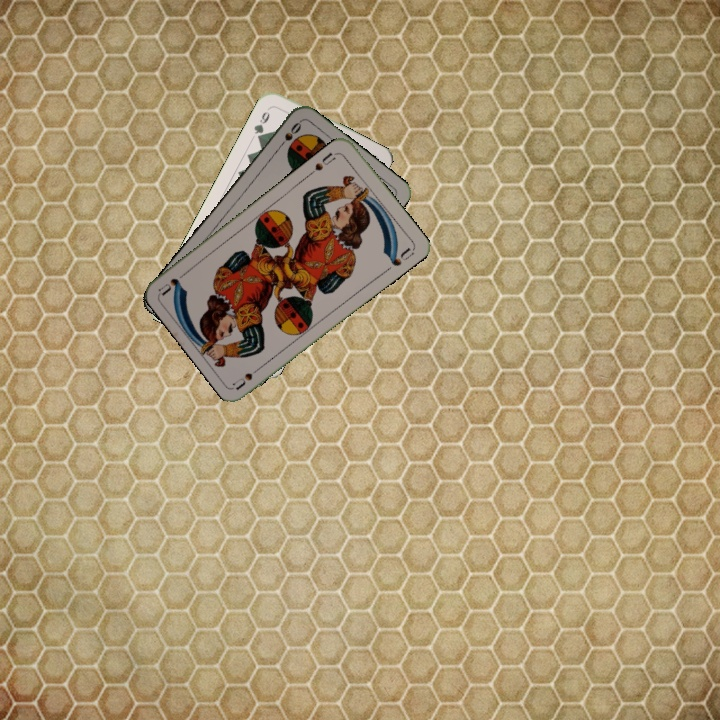G9: (250, 103, 274, 143)
SO: (274, 117, 304, 152)
SU: (229, 361, 266, 392), (306, 148, 340, 178)
